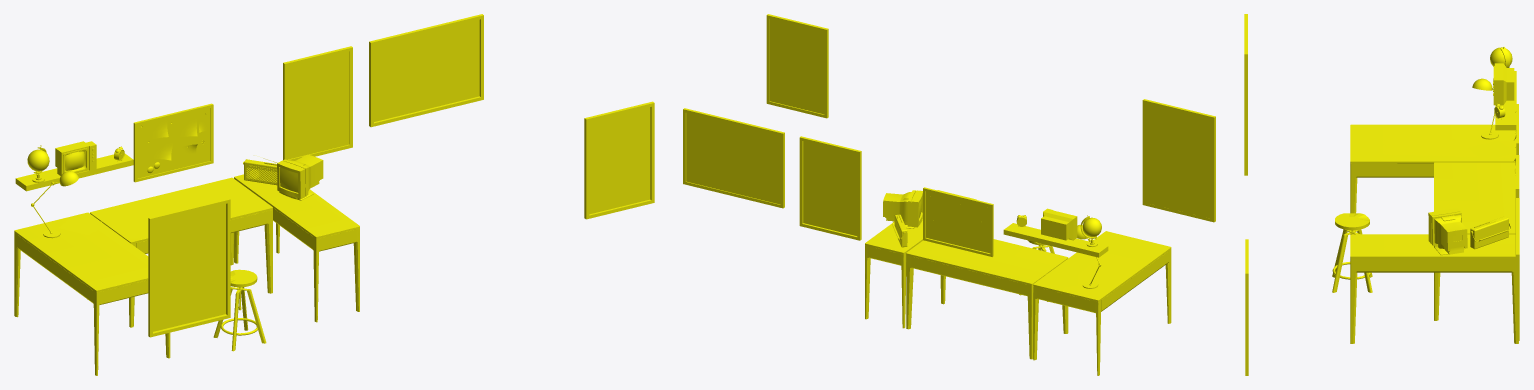
Rendered from FurnitureGroupAmmend.FBX.
3 views of the same model, side by side, from view 1: azimuth 30°, elevation 25°; view 2: azimuth 150°, elevation 25°; view 3: azimuth 270°, elevation 25° (orthographic). The views are drawn at different scales.
Visible parts, largest first — view 1: posters, Table04, PinBoardMesh, Radio_001, Monitor, Radio; view 2: posters, Table04, PinBoardMesh, Radio_001, Monitor; view 3: Table04, posters, Radio_001, Monitor, Radio.
Part boxes in pixels (bbox=[...]): posters: bbox=[148, 14, 654, 337]; Table04: bbox=[14, 171, 359, 375]; PinBoardMesh: bbox=[133, 103, 213, 182]; Radio_001: bbox=[15, 141, 133, 191]; Monitor: bbox=[277, 154, 323, 200]; Radio: bbox=[243, 158, 277, 185]; posters: bbox=[683, 14, 1215, 240]; Table04: bbox=[865, 190, 1171, 375]; PinBoardMesh: bbox=[923, 187, 993, 256]; Radio_001: bbox=[1003, 208, 1108, 257]; Monitor: bbox=[883, 190, 922, 228]; Table04: bbox=[1332, 78, 1518, 343]; posters: bbox=[1244, 14, 1519, 375]; Radio_001: bbox=[1490, 47, 1516, 130]; Monitor: bbox=[1428, 208, 1467, 255]; Radio: bbox=[1470, 216, 1510, 249].
Bounding box in the file's own units: 4.97 × 2.28 × 1.82.
